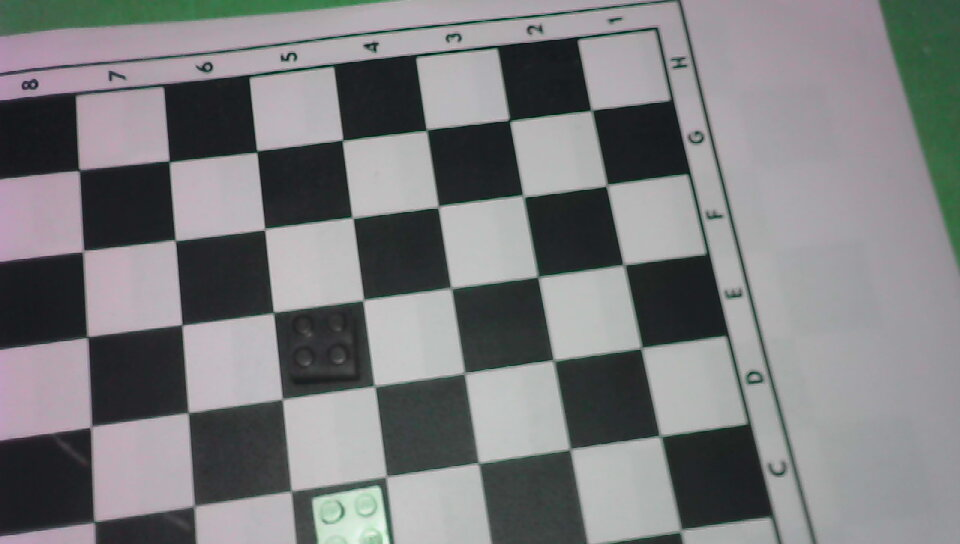bp: (284, 305, 363, 387)
